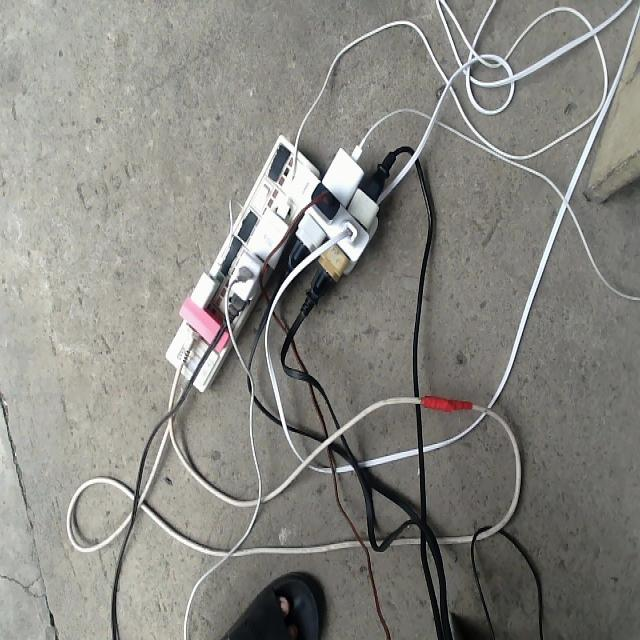-: (162, 132, 378, 392)
